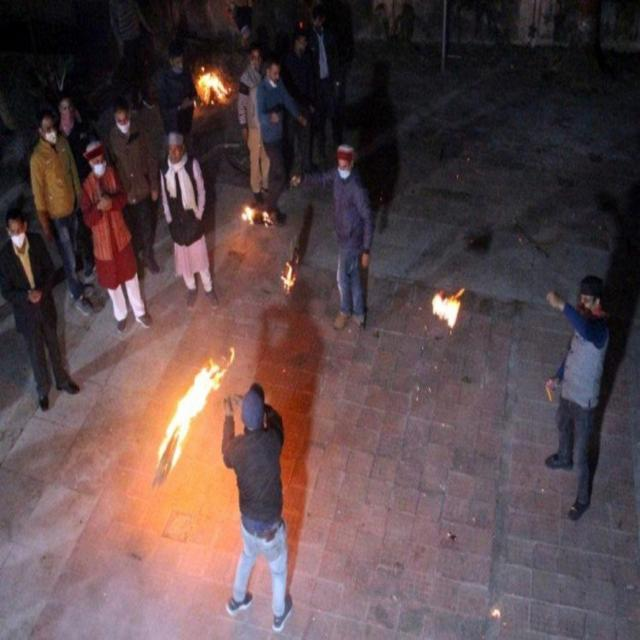fire: (157, 347, 234, 471), (430, 285, 466, 330)
